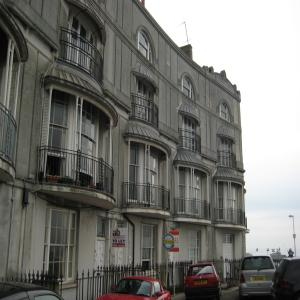Vehicle-registration-plate: (252, 277, 267, 283), (196, 280, 207, 284)
